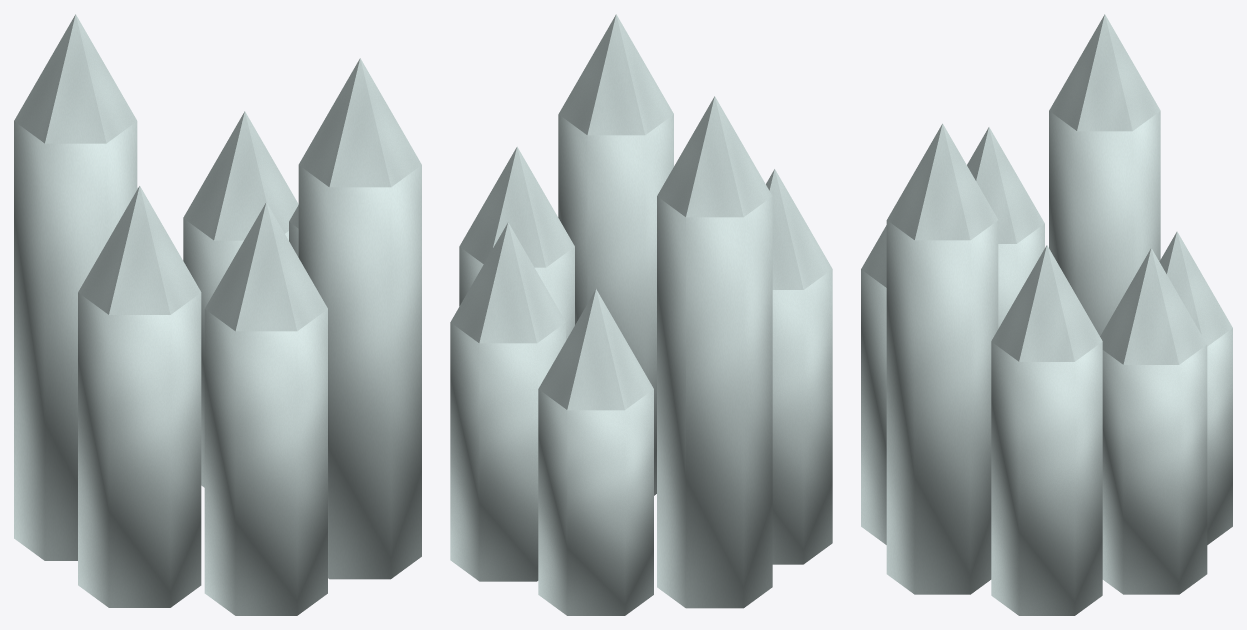
The model's file is specimen.glb.
3 views of the same model, side by side, from view 1: azimuth 30°, elevation 25°; view 2: azimuth 150°, elevation 25°; view 3: azimuth 270°, elevation 25° (orthographic). The views are drawn at different scales.
Parts seen in each view (by area): view 1: quartz crystal.006, quartz crystal.004, quartz crystal.005, quartz crystal.003, Cone.006, Cone.005, Cone.003, Cone.004, Cone.001, quartz crystal.001; view 2: quartz crystal.003, quartz crystal.002, quartz crystal.001, quartz crystal.006, quartz crystal.004, Cone.002, Cone.003, Cone.006, Cone.001, Cone, Cone.004, quartz crystal; view 3: quartz crystal.006, quartz crystal, quartz crystal.001, quartz crystal.003, Cone.003, Cone.006, Cone, Cone.001, quartz crystal.005, quartz crystal.002, Cone.004, Cone.002 (+2 smaller).
Part boxes in pixels (x1=…): quartz crystal.006: x1=298, y1=165, x2=421, y2=579; quartz crystal.004: x1=78, y1=292, x2=201, y2=607; quartz crystal.005: x1=204, y1=309, x2=327, y2=615; quartz crystal.003: x1=14, y1=121, x2=137, y2=560; Cone.006: x1=298, y1=58, x2=421, y2=187; Cone.005: x1=205, y1=202, x2=327, y2=331; Cone.003: x1=14, y1=14, x2=136, y2=143; Cone.004: x1=78, y1=186, x2=201, y2=314; Cone.001: x1=183, y1=111, x2=298, y2=240; quartz crystal.001: x1=183, y1=218, x2=288, y2=487; quartz crystal.003: x1=657, y1=196, x2=772, y2=608; quartz crystal.002: x1=538, y1=389, x2=653, y2=615; quartz crystal.001: x1=450, y1=322, x2=565, y2=581; quartz crystal.006: x1=558, y1=114, x2=673, y2=495; quartz crystal.004: x1=772, y1=269, x2=832, y2=564; Cone.002: x1=538, y1=289, x2=653, y2=410; Cone.003: x1=657, y1=96, x2=772, y2=217; Cone.006: x1=559, y1=14, x2=673, y2=135; Cone.001: x1=450, y1=222, x2=565, y2=343; Cone: x1=459, y1=146, x2=574, y2=267; Cone.004: x1=766, y1=169, x2=832, y2=289; quartz crystal: x1=459, y1=247, x2=574, y2=340; quartz crystal.006: x1=886, y1=220, x2=998, y2=594; quartz crystal: x1=991, y1=342, x2=1102, y2=615; quartz crystal.001: x1=1102, y1=345, x2=1207, y2=594; quartz crystal.003: x1=1049, y1=111, x2=1160, y2=335; Cone.003: x1=1049, y1=14, x2=1160, y2=131; Cone.006: x1=887, y1=123, x2=997, y2=240; Cone: x1=991, y1=245, x2=1102, y2=361; Cone.001: x1=1100, y1=248, x2=1206, y2=364; quartz crystal.005: x1=861, y1=269, x2=886, y2=544; quartz crystal.002: x1=1207, y1=328, x2=1232, y2=544; Cone.004: x1=967, y1=127, x2=1044, y2=243; Cone.002: x1=1159, y1=231, x2=1232, y2=346.
Size of the model in its own units: 0.1444 by 0.2157 by 0.1532.
Materials: 1 (1 with a texture image).
